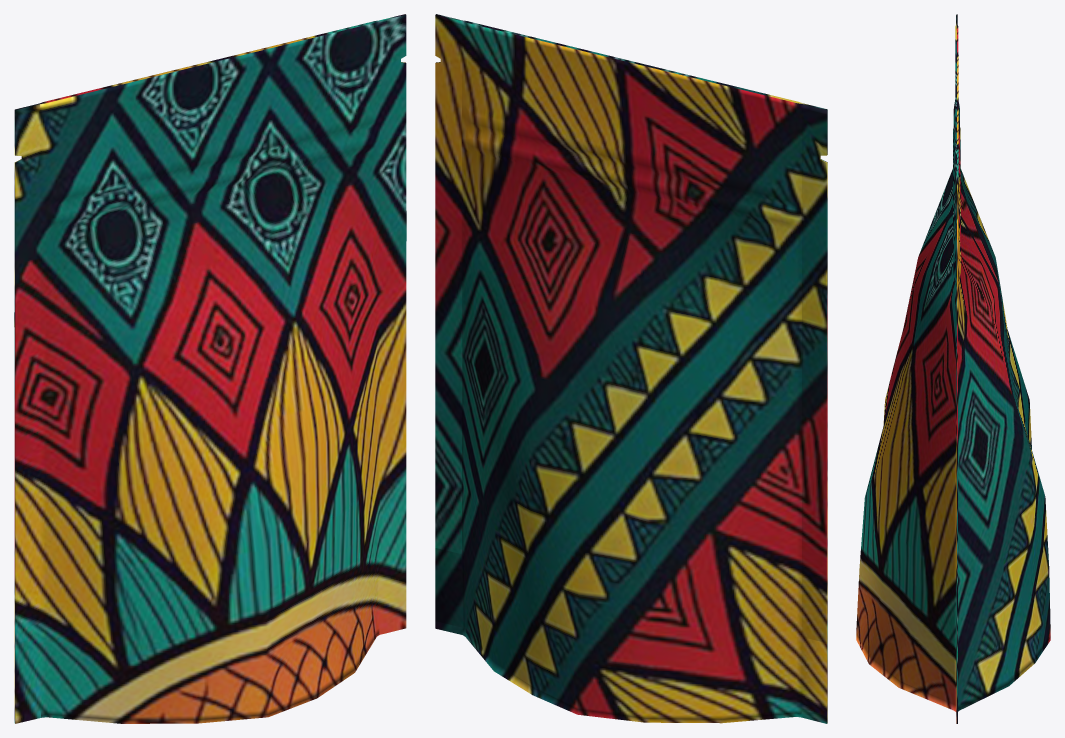
The model's file is Plastic2.glb.
3 renders of one model, left to right at view 1: azimuth 30°, elevation 25°; view 2: azimuth 150°, elevation 25°; view 3: azimuth 270°, elevation 25°, orthographic. The views are drawn at different scales.
Visible parts, largest first — view 1: sachet_0; view 2: sachet_0; view 3: sachet_0.
Boxes of the visible parts, x1=… form: sachet_0: x1=14, y1=14, x2=406, y2=723; sachet_0: x1=435, y1=14, x2=827, y2=723; sachet_0: x1=856, y1=14, x2=1050, y2=723.
Bounding box in the file's own units: 1.69 × 2.53 × 0.8241.
Materials: 1 (1 with a texture image).
